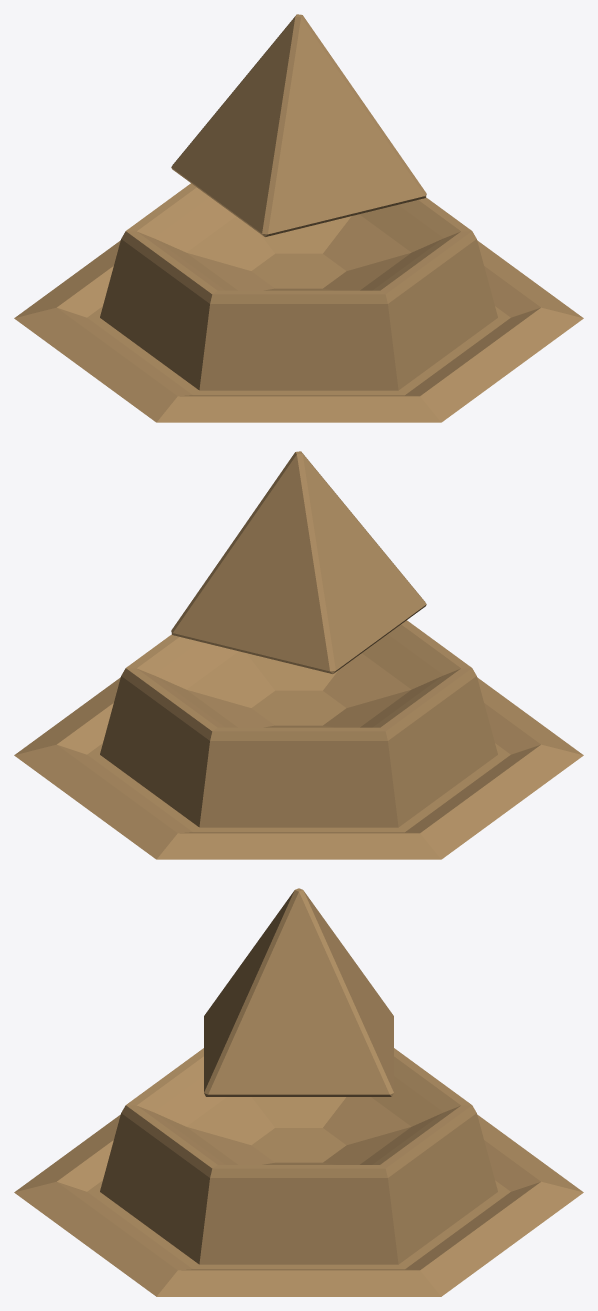
File: Fase_2_Eco2.fbx
The picture shows the model from 3 angles, top to bottom: view 1: azimuth 30°, elevation 25°; view 2: azimuth 150°, elevation 25°; view 3: azimuth 270°, elevation 25°; orthographic projection.
Parts seen in each view (by area): view 1: Circle.004, Cube.727; view 2: Circle.004, Cube.727; view 3: Circle.004, Cube.727.
Part boxes in pixels (bbox=[...]): Circle.004: bbox=[14, 183, 583, 422]; Cube.727: bbox=[171, 14, 426, 236]; Circle.004: bbox=[14, 620, 583, 859]; Cube.727: bbox=[171, 451, 426, 673]; Circle.004: bbox=[14, 1048, 583, 1296]; Cube.727: bbox=[204, 888, 393, 1096].
Bounding box in the file's own units: 510 × 345 × 589.
